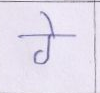e_matra: (39, 11, 59, 33)
